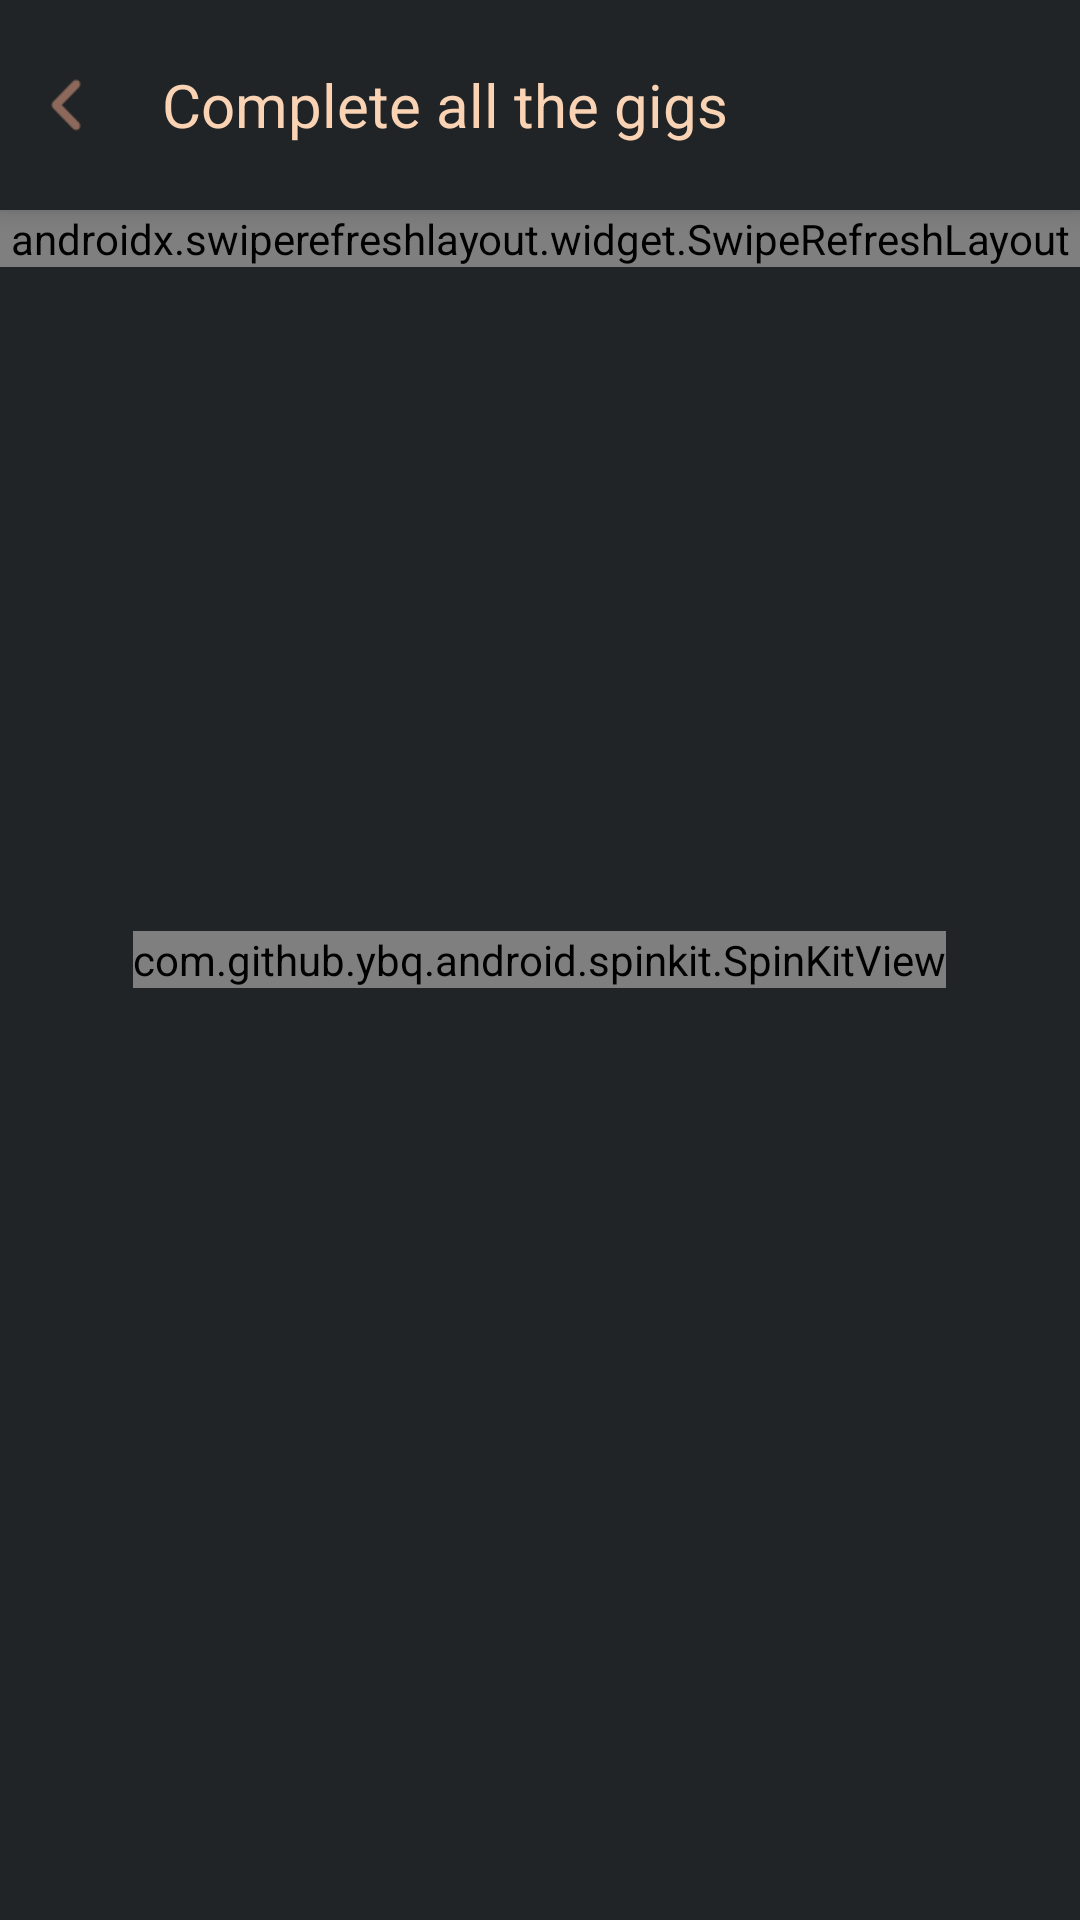

Icon click points for this 1080*1920 phone screenshot, format point (x, y):
chevron left: point (66, 105)
